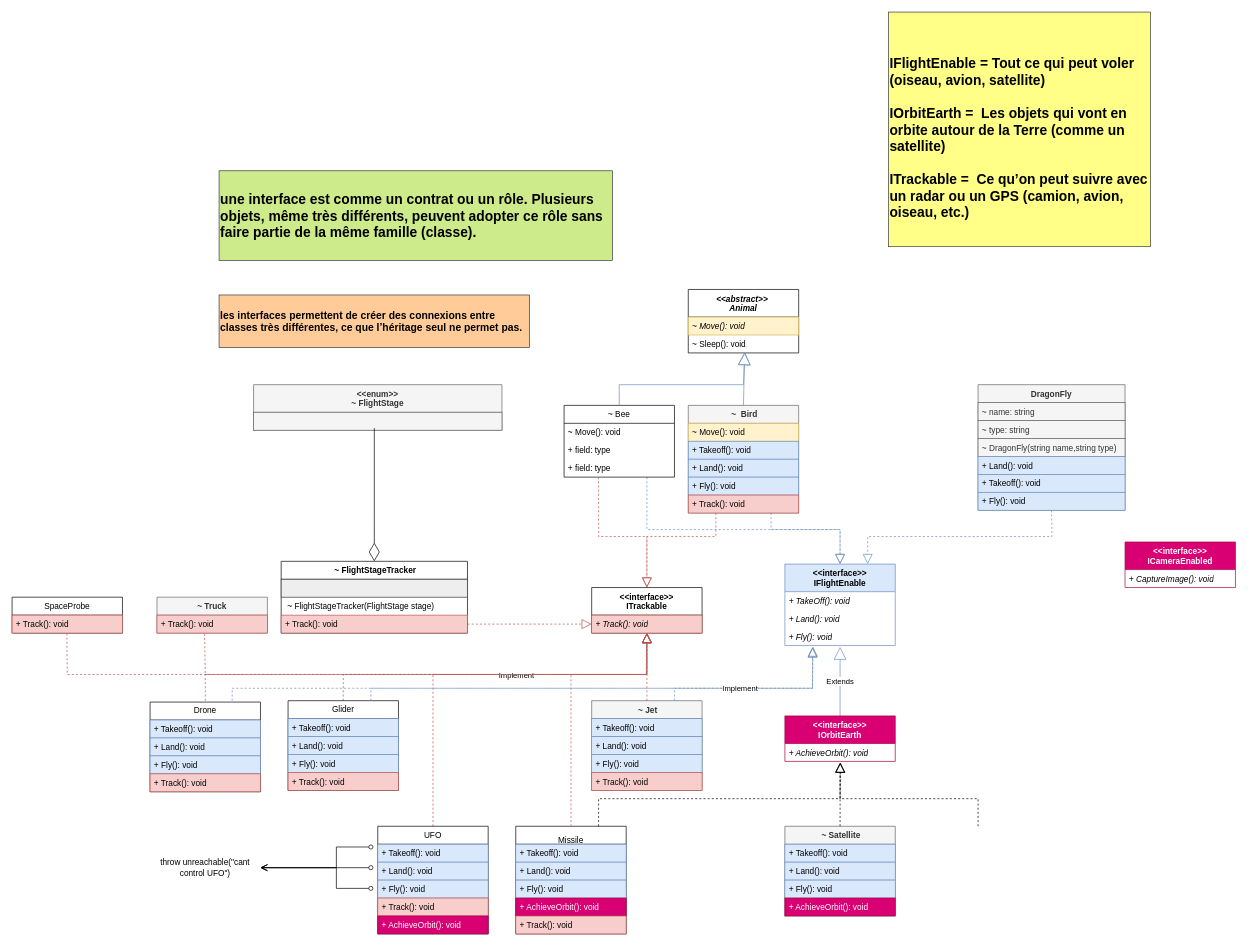
Some shapes in this 1248 by 948 pixel diagram are drawn without their labels. The centre of each missing label's shape, as x and y in pixels:
"- stage : FlightStage" belongs at point (373, 588).
"~ GROUNDED, LAUNCH, CRUISE, DATA_COLLECTION" belongs at point (377, 421).
